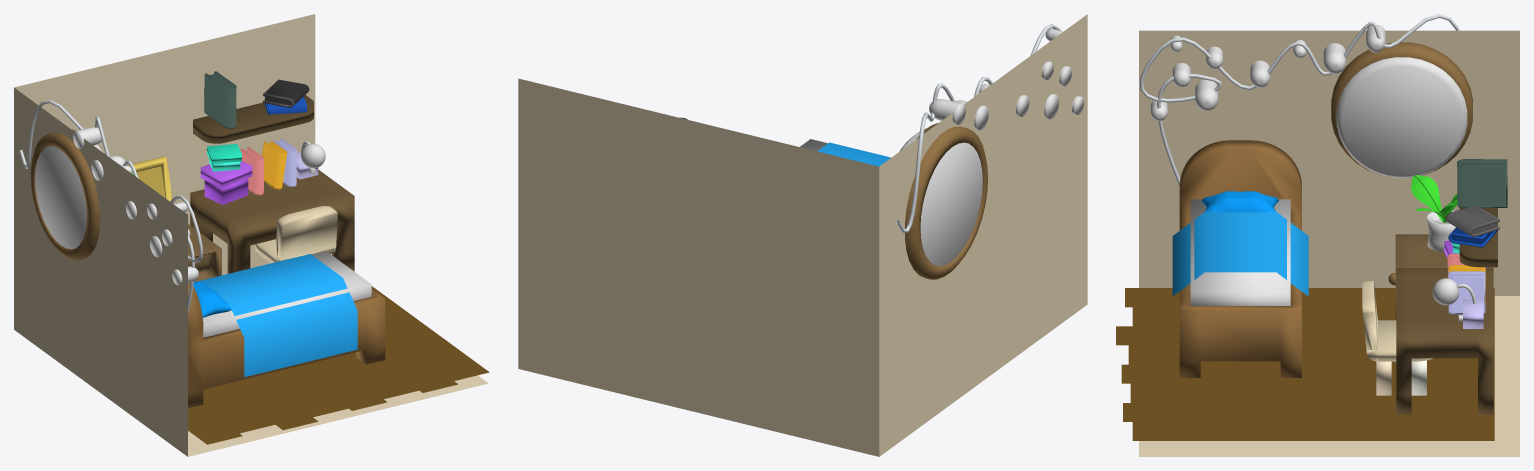
Rendered from dong.blend2.blend3.glb.
3 views of the same model, side by side, from view 1: azimuth 30°, elevation 25°; view 2: azimuth 150°, elevation 25°; view 3: azimuth 270°, elevation 25° (orthographic). The views are drawn at different scales.
Visible parts, largest first — view 1: Cube, Cube.001, Cube.007, Cube.009, Cube.002, Cylinder, Cube.019, Cylinder.002, Cube.017, Cube.003, Cube.029, BézierCurve.001 (+11 smaller); view 2: Cube, Cylinder, Cylinder.002, BézierCurve.001, Cube.007, Cylinder.008; view 3: Cube, Cube.001, Cube.002, Cylinder, Cube.009, Cube.007, Cube.003, Cylinder.002, BézierCurve.001, Cube.029, Cube.019, Cube.014 (+15 smaller).
Boxes of the visible parts, x1=… form: Cube: x1=14, y1=14, x2=488, y2=456; Cube.001: x1=188, y1=286, x2=489, y2=444; Cube.007: x1=197, y1=254, x2=357, y2=377; Cube.009: x1=190, y1=169, x2=354, y2=273; Cube.002: x1=188, y1=282, x2=385, y2=408; Cylinder: x1=35, y1=144, x2=104, y2=249; Cube.019: x1=255, y1=206, x2=337, y2=263; Cylinder.002: x1=30, y1=129, x2=99, y2=260; Cube.017: x1=193, y1=95, x2=313, y2=143; Cube.003: x1=202, y1=251, x2=371, y2=337; Cube.029: x1=204, y1=71, x2=236, y2=128; BézierCurve.001: x1=19, y1=100, x2=202, y2=315; Cube: x1=518, y1=14, x2=1087, y2=456; Cylinder: x1=899, y1=127, x2=982, y2=266; Cylinder.002: x1=905, y1=122, x2=987, y2=279; BézierCurve.001: x1=896, y1=24, x2=1060, y2=232; Cube.007: x1=817, y1=142, x2=890, y2=166; Cylinder.008: x1=929, y1=99, x2=965, y2=124; Cube: x1=1139, y1=30, x2=1519, y2=456; Cube.001: x1=1116, y1=288, x2=1494, y2=440; Cube.002: x1=1179, y1=140, x2=1301, y2=377; Cylinder: x1=1336, y1=57, x2=1467, y2=177; Cube.009: x1=1396, y1=268, x2=1493, y2=414; Cube.007: x1=1172, y1=211, x2=1308, y2=296; Cube.003: x1=1190, y1=199, x2=1290, y2=305; Cylinder.002: x1=1331, y1=42, x2=1472, y2=177; BézierCurve.001: x1=1140, y1=14, x2=1459, y2=186; Cube.029: x1=1457, y1=159, x2=1507, y2=207; Cube.019: x1=1362, y1=280, x2=1432, y2=361; Cube.014: x1=1395, y1=234, x2=1492, y2=319.
Bounding box in the file's own units: 4.11 × 3.28 × 4.24.
